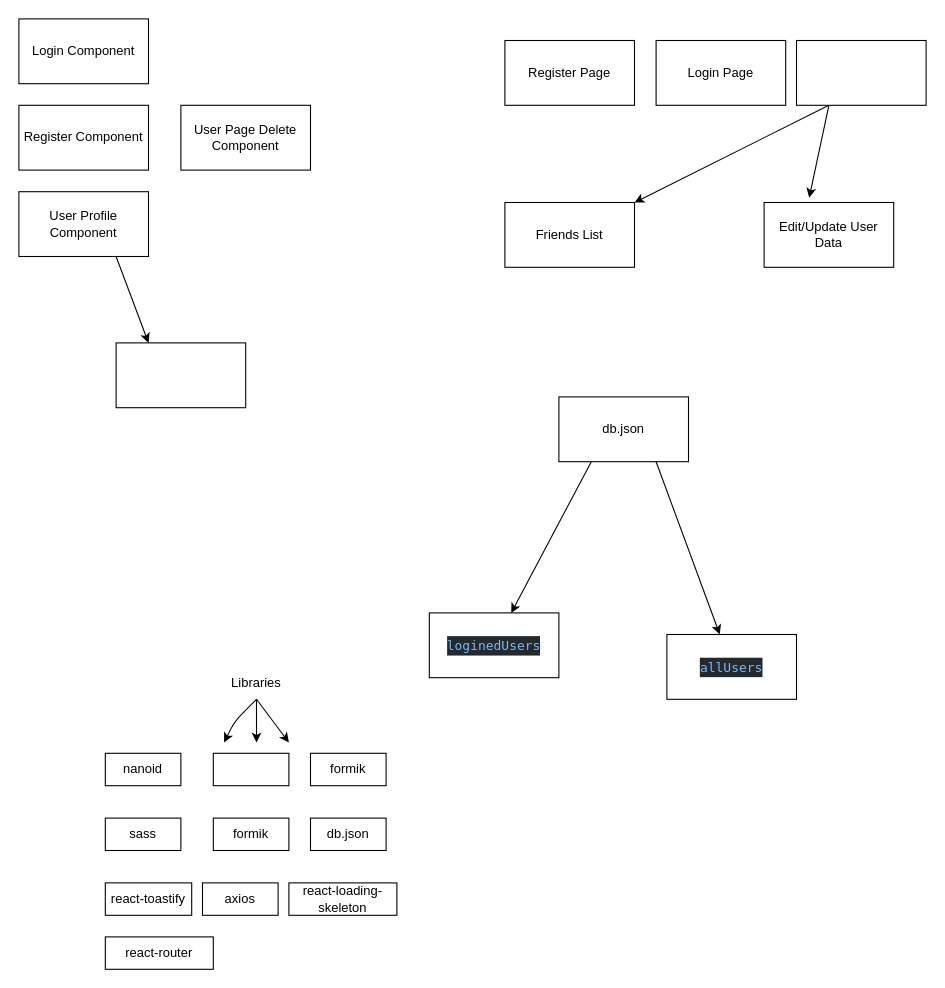
Image size: 945x988. Some labels were removed from this diagram. The shapes that lost their labels are listed below. From the top down, each one's centre as x and y in pixels, then its label:
pixel 860 72: User Page
pixel 180 375: Add/Delete Friends
pixel 250 769: react-slick
